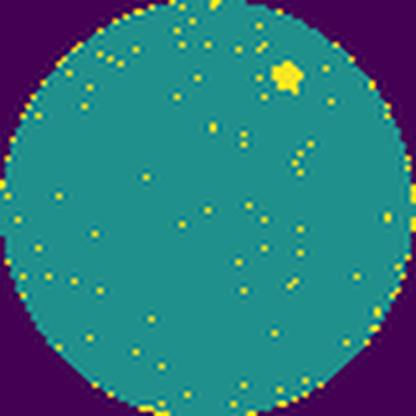Loc: (272, 60, 306, 95)
